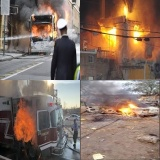fire: (12, 100, 38, 143), (30, 3, 60, 39), (100, 23, 119, 44), (116, 101, 139, 116), (132, 26, 144, 43), (62, 7, 70, 22), (123, 5, 128, 19)
